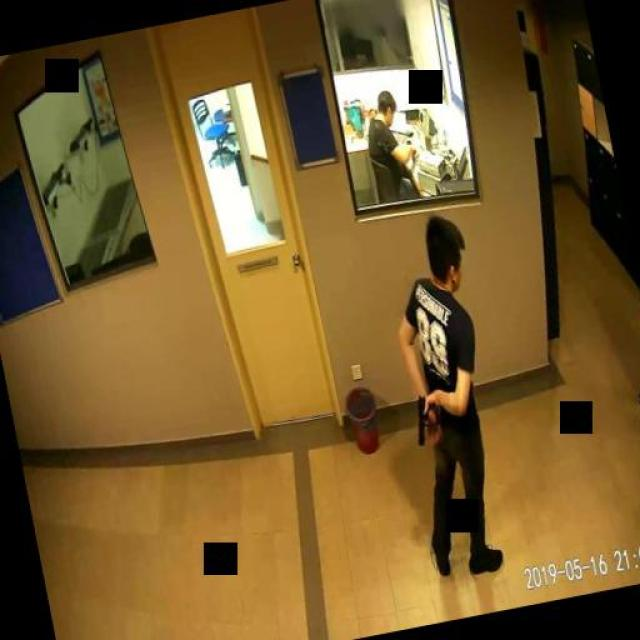gun: (409, 391, 441, 445)
